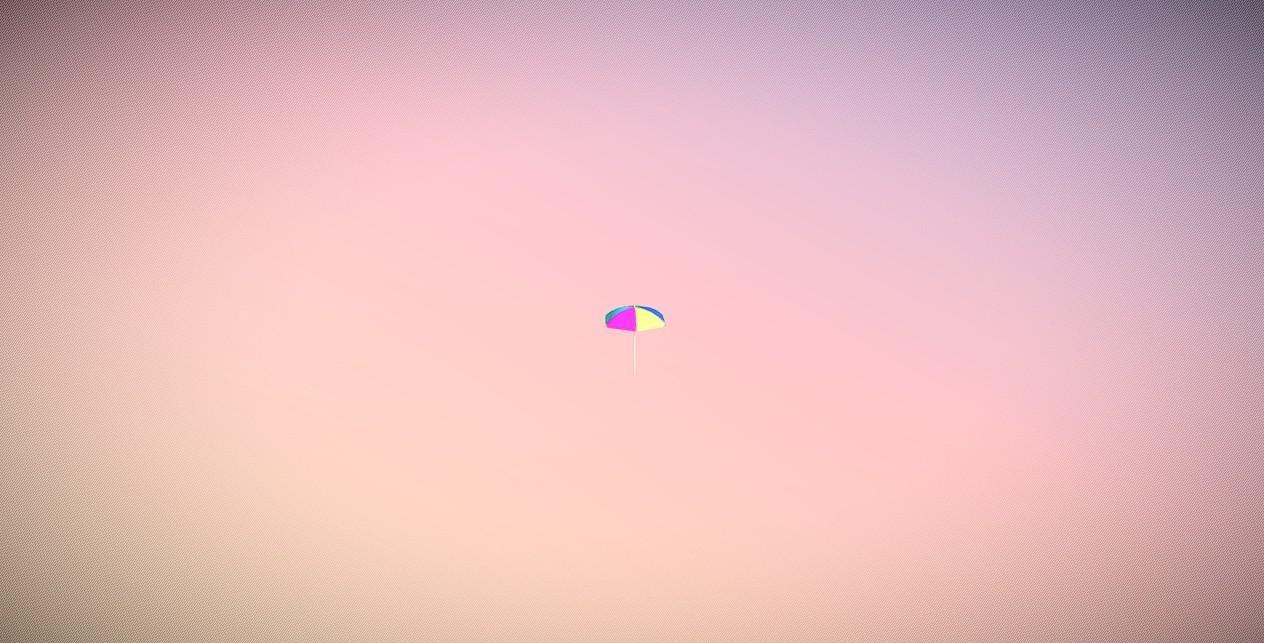Umbrella: (603, 303, 665, 376)
